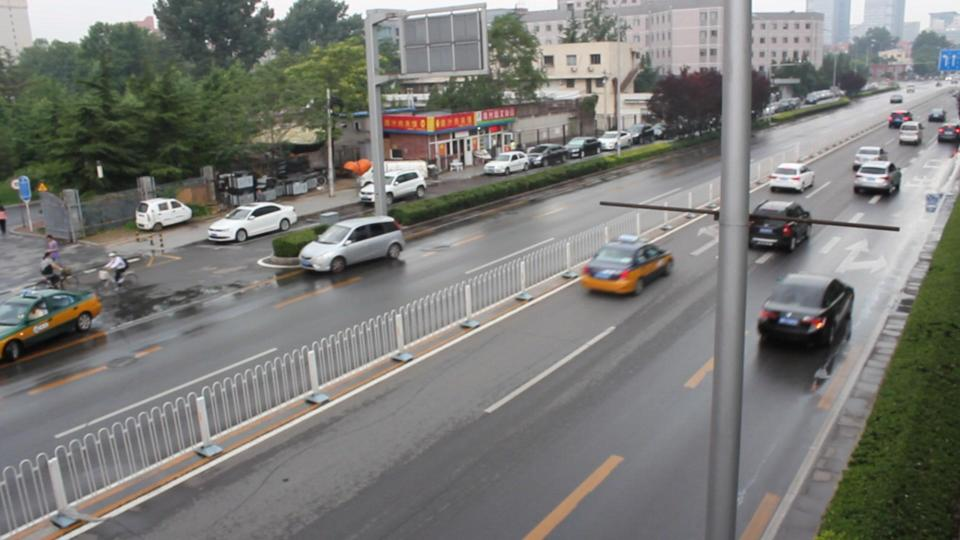car: (756, 272, 854, 348), (1, 287, 101, 359), (576, 233, 674, 293), (206, 201, 294, 244), (766, 161, 816, 191)
microbus: (296, 215, 405, 272)
suv: (746, 197, 813, 252), (356, 171, 425, 206), (851, 160, 901, 197)
truck: (360, 158, 429, 188)
